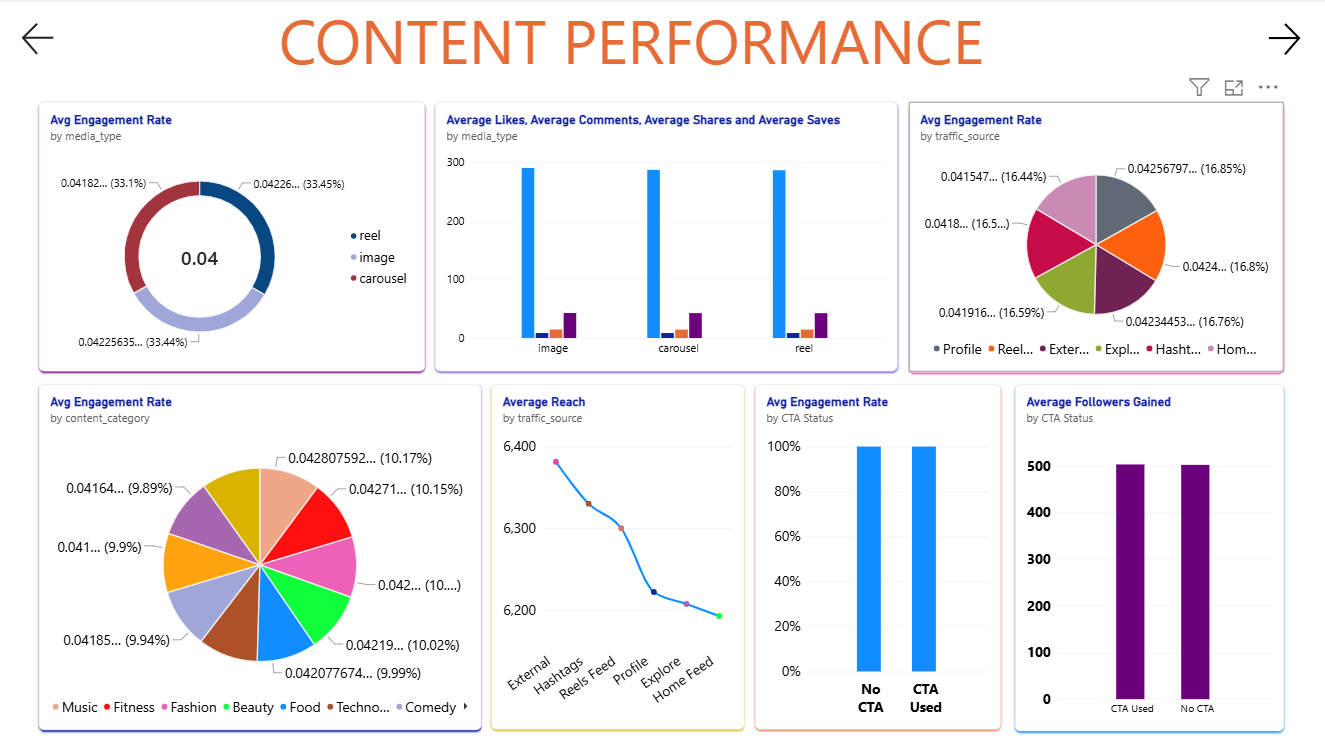

Layout of this report page (visuals, bound fields, positions):
{"tool":"powerbi","page":{"name":"CONTENT PERFORMANCE","canvas":[1920,1080],"ordinal":2},"visuals":[{"type":"textbox","box":[106,0,1614,132],"z":0},{"type":"donutChart","fields":{"Category":["Instagram_Analytics.media_type"],"Y":["Instagram_Analytics.Avg Engagement Rate"]},"box":[56.3,150.3,559.3,390.3],"z":1000},{"type":"clusteredColumnChart","fields":{"Category":["Instagram_Analytics.media_type"],"Y":["Instagram_Analytics.Average Likes","Instagram_Analytics.Average Comments","Instagram_Analytics.Average Shares","Instagram_Analytics.Average Saves"]},"box":[630.3,150.3,669.9,390.3],"z":2000},{"type":"pieChart","fields":{"Category":["Instagram_Analytics.content_category"],"Y":["Instagram_Analytics.Avg Engagement Rate"]},"box":[56.3,559.3,640.7,500.9],"z":3000},{"type":"pieChart","fields":{"Category":["Instagram_Analytics.traffic_source"],"Y":["Instagram_Analytics.Avg Engagement Rate"]},"box":[1315.8,149.3,543.2,391.7],"z":4000},{"type":"lineChart","fields":{"Category":["Instagram_Analytics.traffic_source"],"Y":["Instagram_Analytics.Average Reach"]},"box":[711.7,559.3,366,500],"z":5000},{"type":"hundredPercentStackedColumnChart","fields":{"Category":["Instagram_Analytics.CTA Status"],"Y":["Instagram_Analytics.Avg Engagement Rate"]},"box":[1093.6,559.3,356,500],"z":6000},{"type":"clusteredColumnChart","fields":{"Category":["Instagram_Analytics.CTA Status"],"Y":["Instagram_Analytics.Average Followers Gained"]},"box":[1469.5,558.3,389.5,502.1],"z":7000},{"type":"actionButton","box":[6,18,100,82],"z":8000},{"type":"actionButton","box":[1796.9,29.2,123.1,60.5],"z":9000}]}

Visuals, with their boxes in screenshot pixels (x1, y1, x2, y2), scaled from the page's 1920x1080 canvas onto the 1325x742 screenshot:
textbox: (73, 0, 1187, 91)
donutChart - Instagram_Analytics.media_type x Instagram_Analytics.Avg Engagement Rate: (39, 103, 425, 371)
clusteredColumnChart - Instagram_Analytics.media_type x Instagram_Analytics.Average Likes: (435, 103, 897, 371)
pieChart - Instagram_Analytics.content_category x Instagram_Analytics.Avg Engagement Rate: (39, 384, 481, 728)
pieChart - Instagram_Analytics.traffic_source x Instagram_Analytics.Avg Engagement Rate: (908, 103, 1283, 372)
lineChart - Instagram_Analytics.traffic_source x Instagram_Analytics.Average Reach: (491, 384, 744, 728)
hundredPercentStackedColumnChart - Instagram_Analytics.CTA Status x Instagram_Analytics.Avg Engagement Rate: (755, 384, 1000, 728)
clusteredColumnChart - Instagram_Analytics.CTA Status x Instagram_Analytics.Average Followers Gained: (1014, 384, 1283, 729)
actionButton: (4, 12, 73, 69)
actionButton: (1240, 20, 1324, 62)
